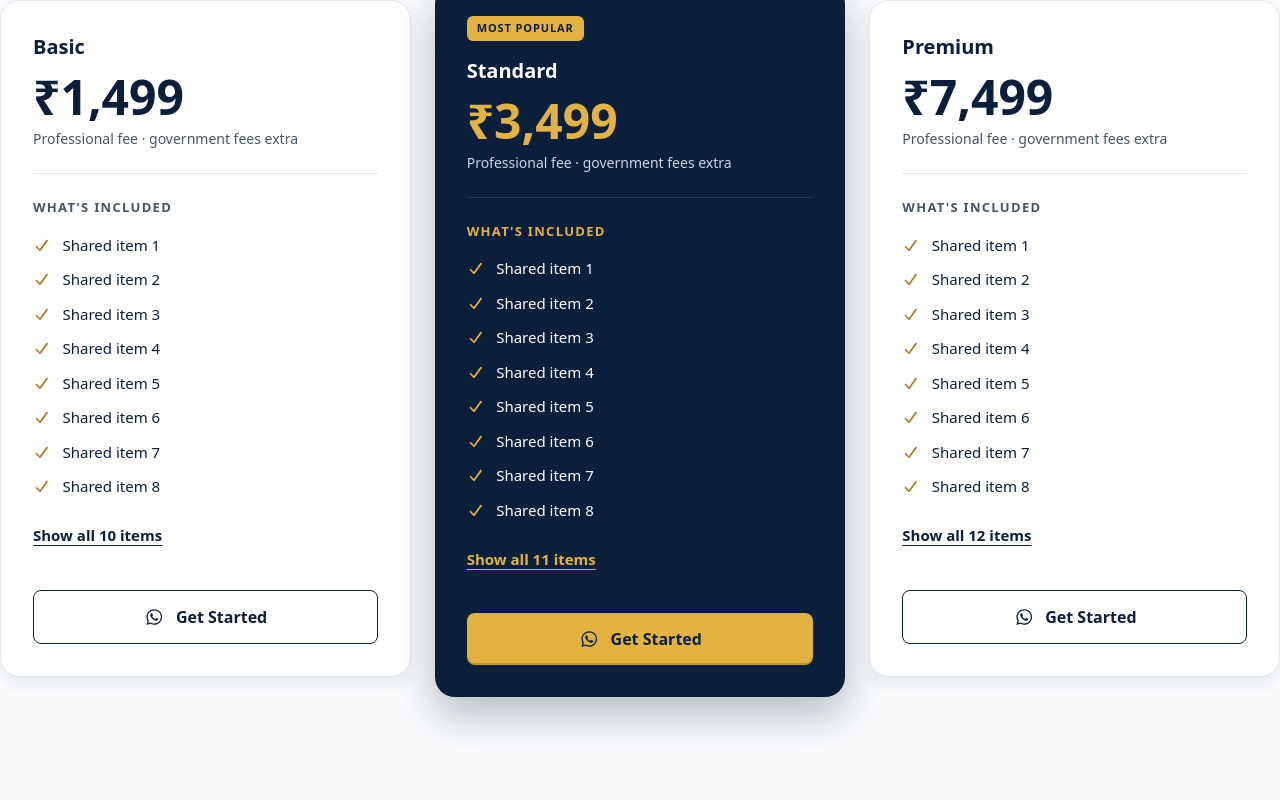
it: PlanCards › shows eight items at first, and the rest on request
The width and height of the screenshot is (1280, 800).
Click the button "Show all 12 items" at x=967, y=536, box [902, 514, 1032, 558]
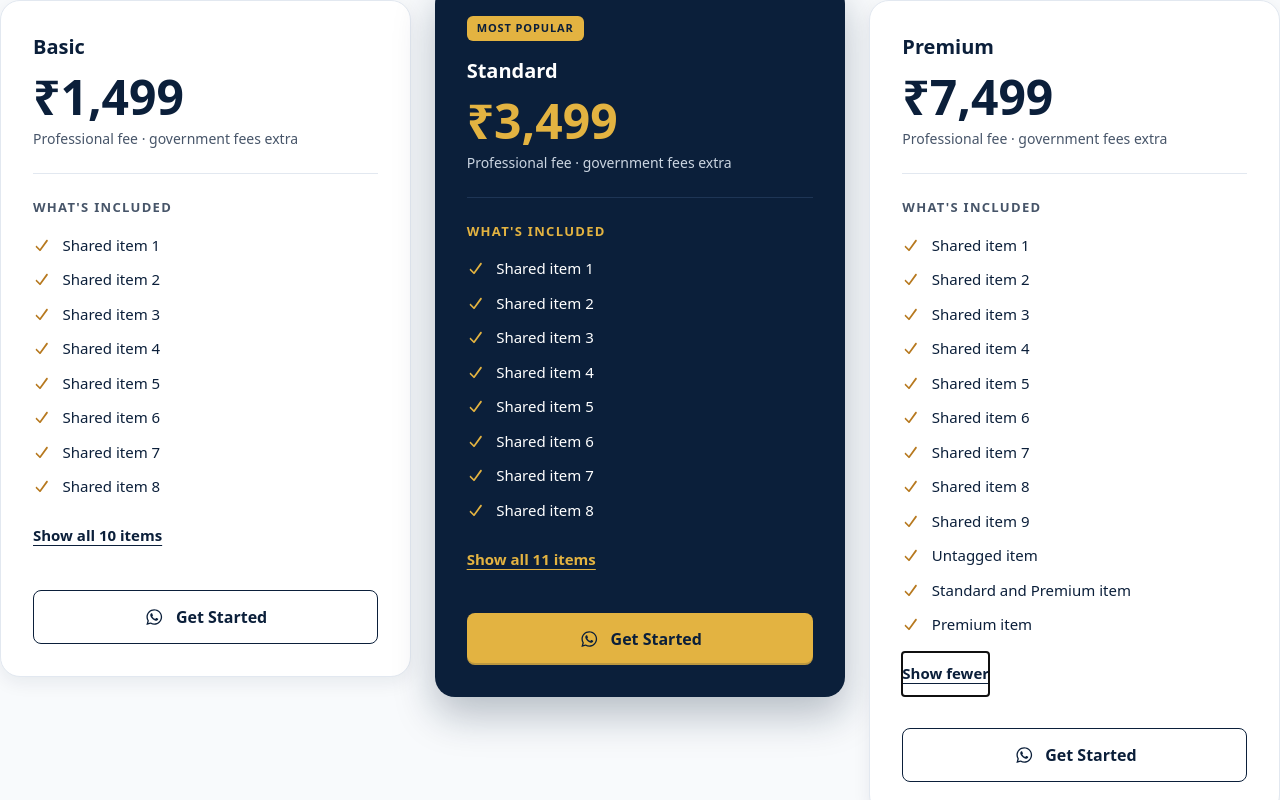
Expected: the button "Show fewer" is expanded, [902, 652, 989, 696]
